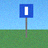sign: (20, 4, 33, 38)
